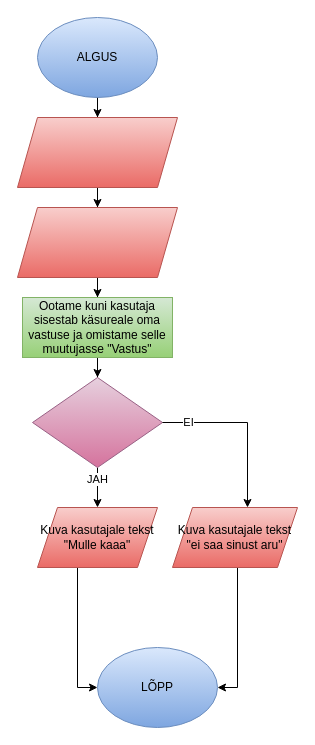
Image size: 315x745. Some labels were removed from this diagram. Here are the shapes that lost their labels. From the top down, the centre of each, then its label:
pixel 97 152: Tekitame sõne tüüpi muutuja "Vastus" mille jätame hetkel tühjaks
pixel 97 242: Kuvame kasutajale teksti "Kas sulle meeldivad tulbid ?"
pixel 97 422: Kas muutujas "Vastus" on sõne tüüpi andmed "jah" ?
